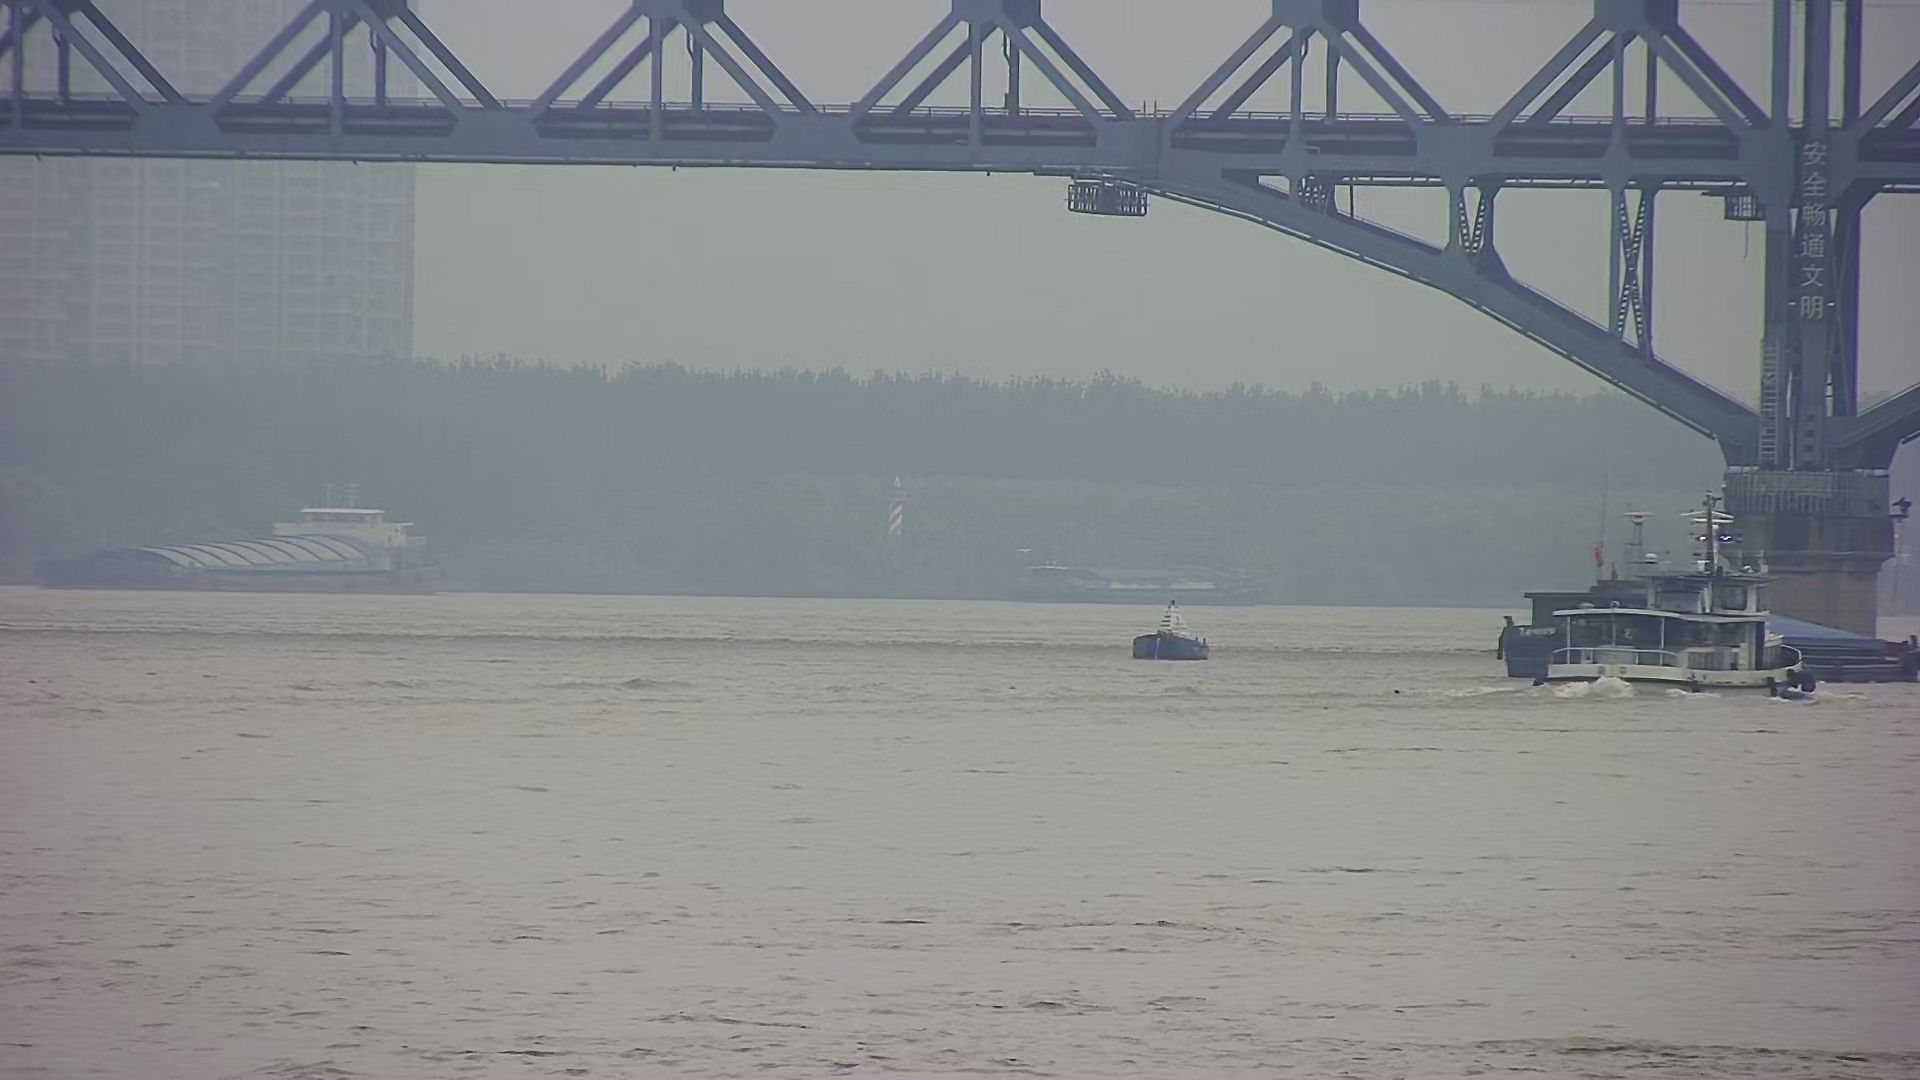boat: (1127, 589, 1215, 666)
bridge: (3, 1, 1902, 638)
ship: (1486, 502, 1917, 676), (1534, 480, 1821, 705), (24, 464, 459, 600)
